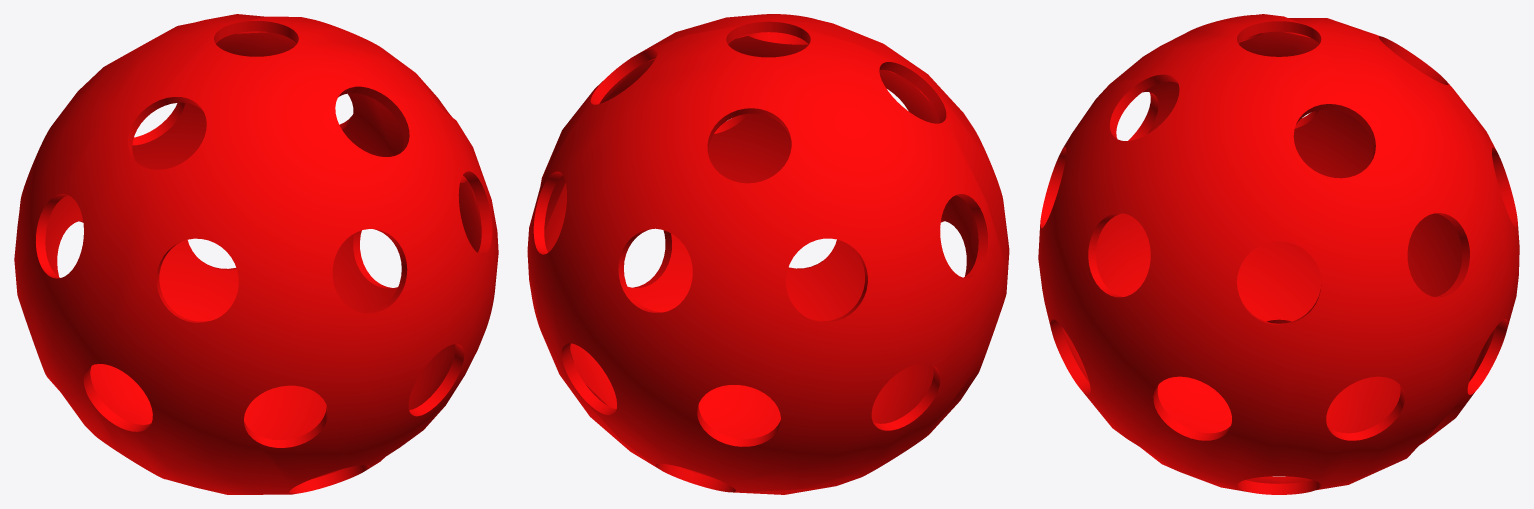
The picture shows the model from 3 angles, left to right: view 1: azimuth 30°, elevation 25°; view 2: azimuth 150°, elevation 25°; view 3: azimuth 270°, elevation 25°; orthographic projection.
Visible parts, largest first — view 1: am-5852: Red Nectar; view 2: am-5852: Red Nectar; view 3: am-5852: Red Nectar.
Part boxes in pixels (bbox=[...]): am-5852: Red Nectar: bbox=[14, 14, 498, 494]; am-5852: Red Nectar: bbox=[527, 14, 1009, 494]; am-5852: Red Nectar: bbox=[1038, 14, 1519, 494].
Size of the model in its own units: 0.0919 by 0.0905 by 0.0918.
